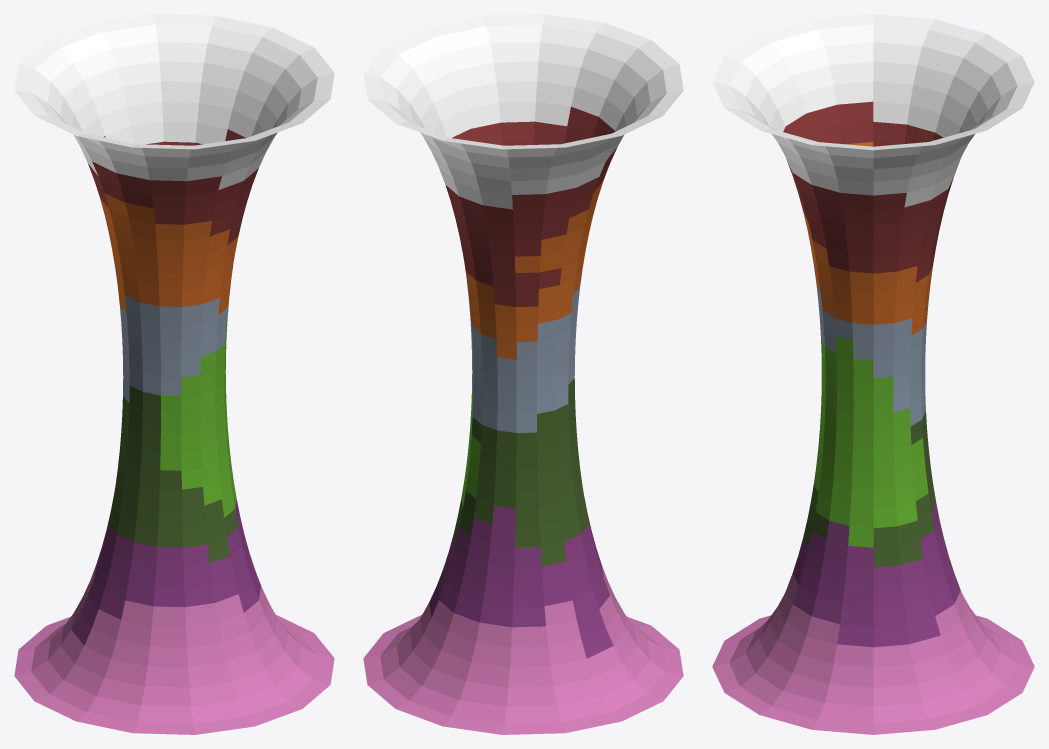
Rendered from the_world_full_size.glb.
3 renders of one model, left to right at view 1: azimuth 30°, elevation 25°; view 2: azimuth 150°, elevation 25°; view 3: azimuth 270°, elevation 25°, orthographic.
Visible parts, largest first — view 1: Cylinder3; view 2: Cylinder3; view 3: Cylinder3.
Part boxes in pixels (left/top/right/bottom): Cylinder3: left=14, top=14, right=334, bottom=734; Cylinder3: left=363, top=14, right=683, bottom=734; Cylinder3: left=712, top=14, right=1034, bottom=734.
Bounding box in the file's own units: 16 × 32 × 16.
Materials: 1 (1 with a texture image).
